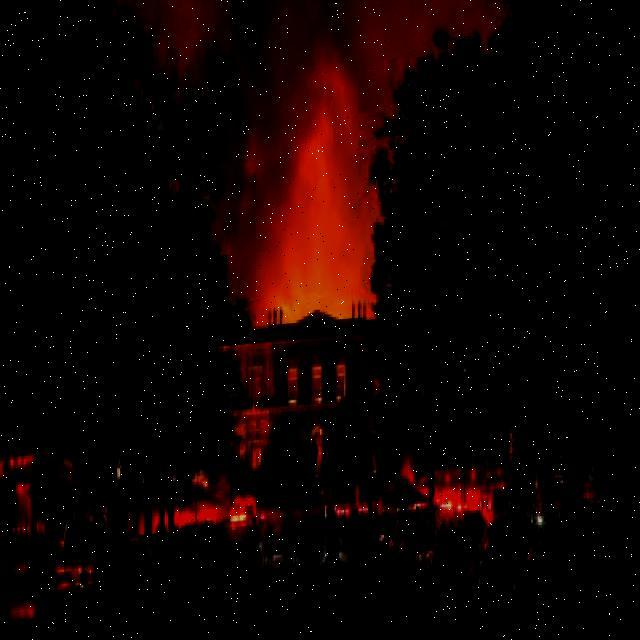Fire: (245, 72, 376, 328)
